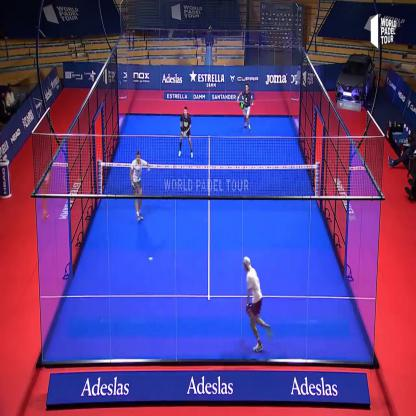ball: (147, 253, 154, 267)
